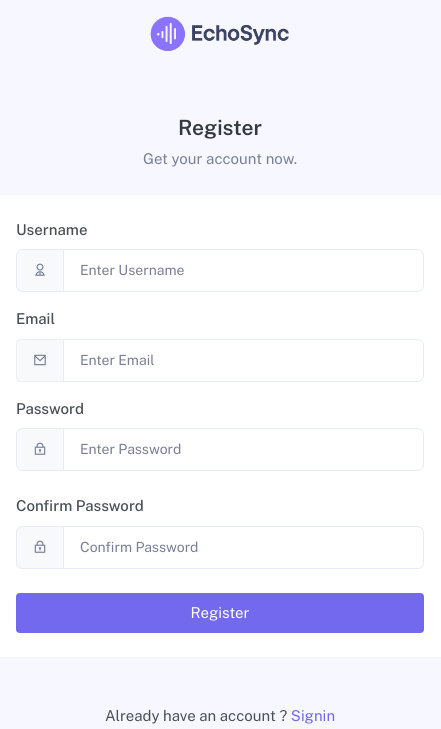
Register › validation: required, email format, password match
This screenshot has width=441, height=729.
Click the button "Register" at (220, 613), box [16, 593, 424, 633]
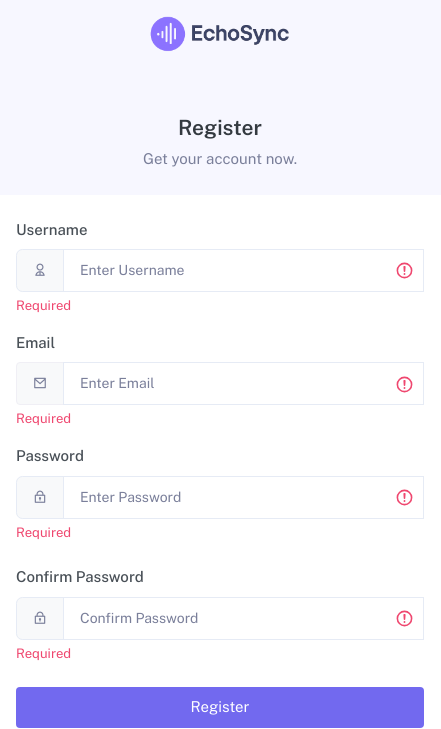
expect the text "Required" is shown 4 times: met, box [16, 298, 71, 313]; [16, 411, 71, 426]; [16, 525, 71, 540]; [16, 646, 71, 661]
# Email format + password mismatch
Type "u" into the field with placeholder "Enter Username" at (244, 271), box [63, 249, 424, 292]
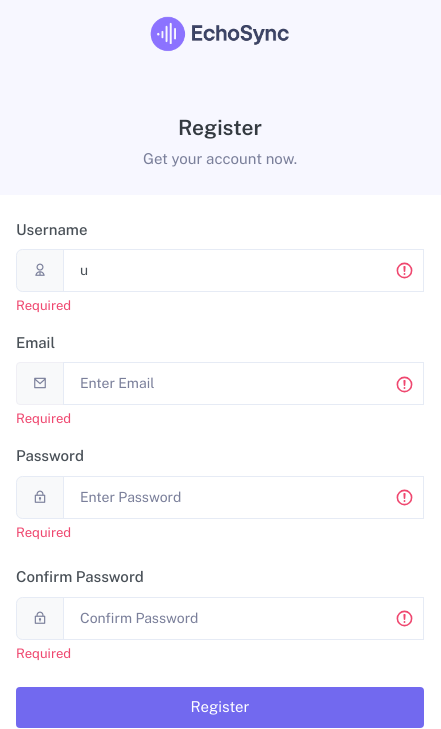
Type "bad" into the field with placeholder "Enter Email" at (244, 384), box [63, 362, 424, 405]
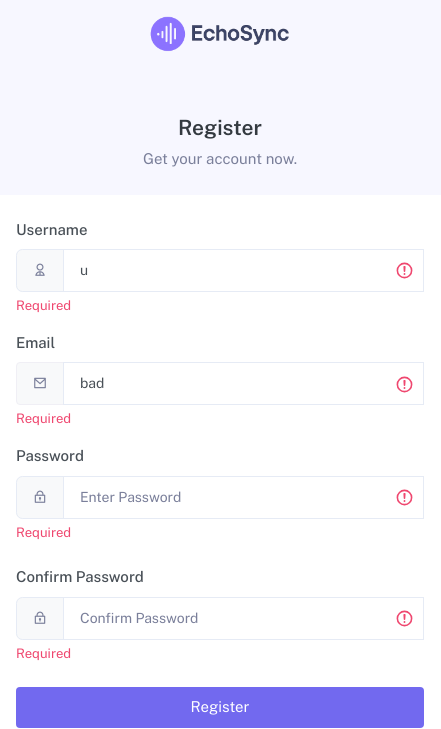
Type "p1" into the password field with placeholder "Enter Password" at (244, 497), box [63, 476, 424, 519]
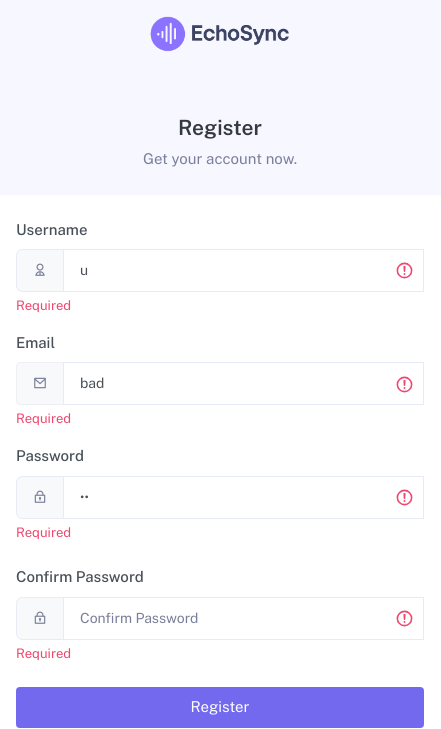
Type "p2" into the password field with placeholder "Confirm Password" at (244, 618), box [63, 597, 424, 640]
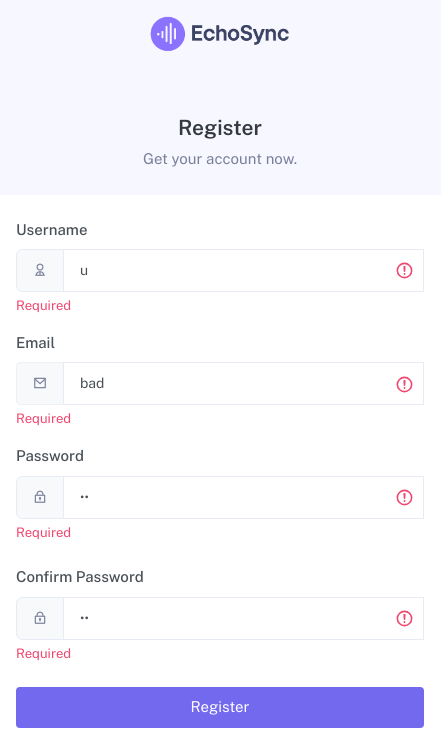
Click the button "Register" at (220, 708), box [16, 687, 424, 728]
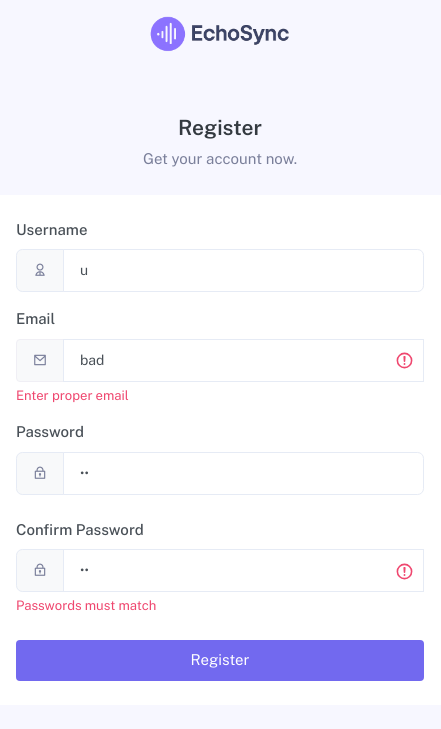
expect the text "Enter proper email" is shown: met, box [16, 388, 129, 403]
expect the text "Passwords must match" is shown: met, box [16, 598, 156, 613]
